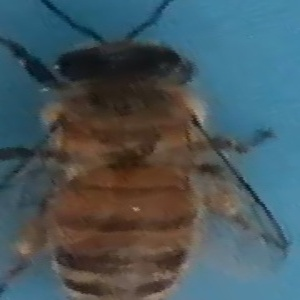bee: (5, 4, 293, 300)
